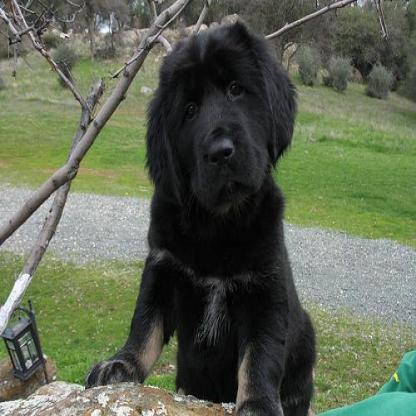Tibetan_mastiff: (85, 16, 317, 414)
